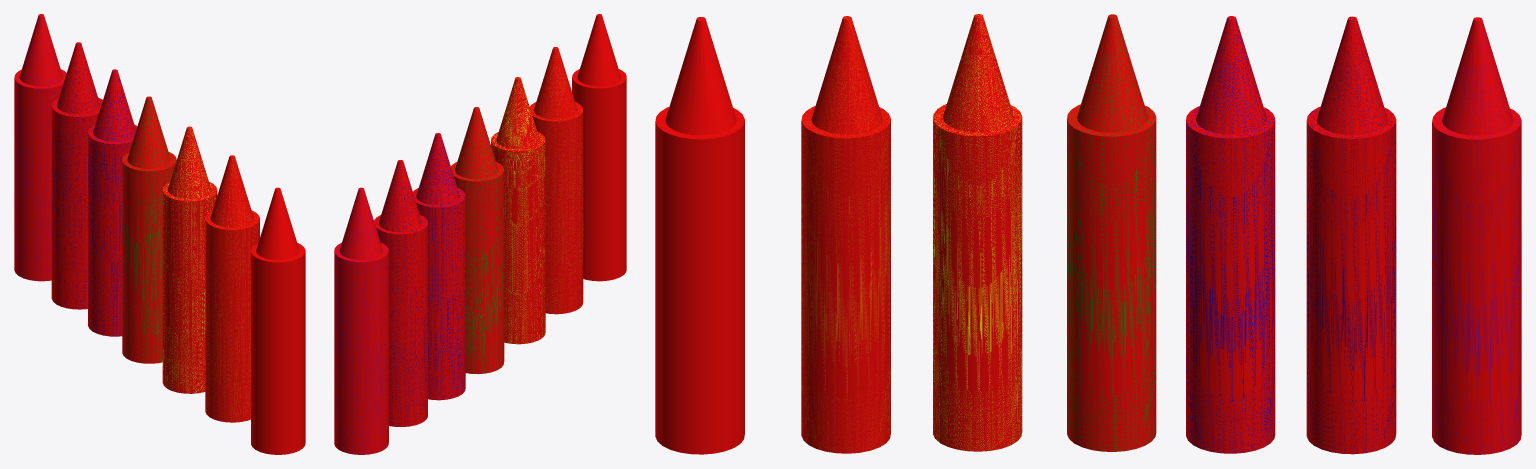
The model's file is Crayons_2.fbx.
3 renders of one model, left to right at view 1: azimuth 30°, elevation 25°; view 2: azimuth 150°, elevation 25°; view 3: azimuth 270°, elevation 25°, orthographic. The views are drawn at different scales.
Parts seen in each view (by area): view 1: Model; view 2: Model; view 3: Model.
Boxes of the visible parts, bbox=[...] form: Model: bbox=[14, 14, 305, 454]; Model: bbox=[334, 14, 626, 454]; Model: bbox=[655, 14, 1521, 454].
Bounding box in the file's own units: 41.35 × 196 × 368.
